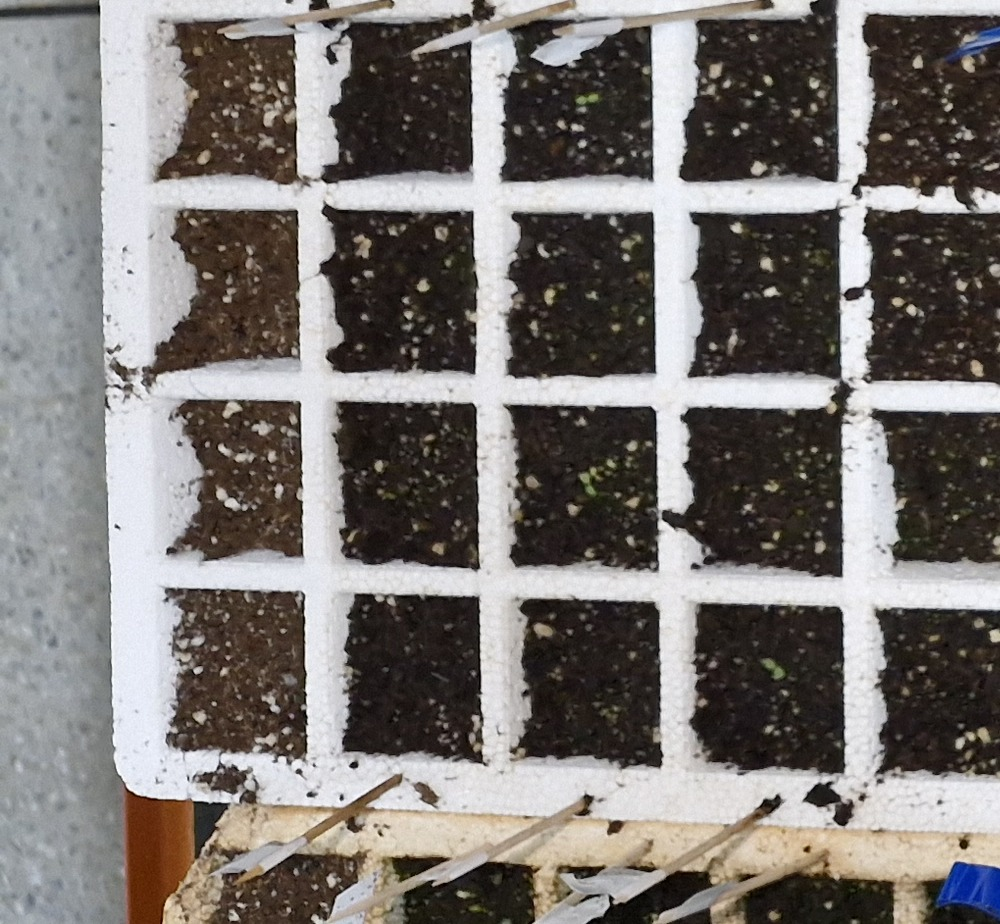Folha: (764, 658, 776, 669), (579, 473, 590, 484), (774, 667, 783, 678), (575, 96, 588, 103)
Germinacao: (764, 659, 784, 678), (579, 473, 595, 495), (575, 93, 599, 105)
